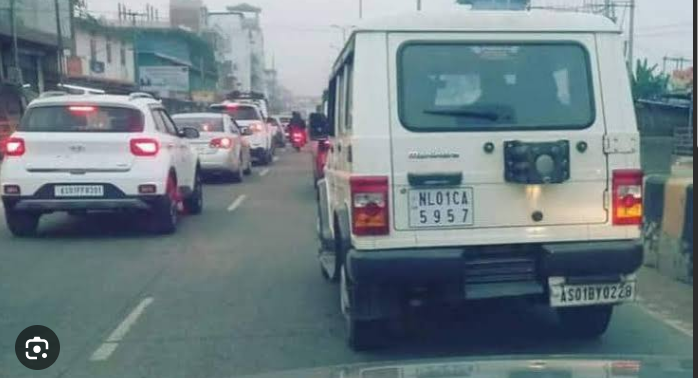licence: (409, 188, 474, 228), (53, 184, 105, 197)
